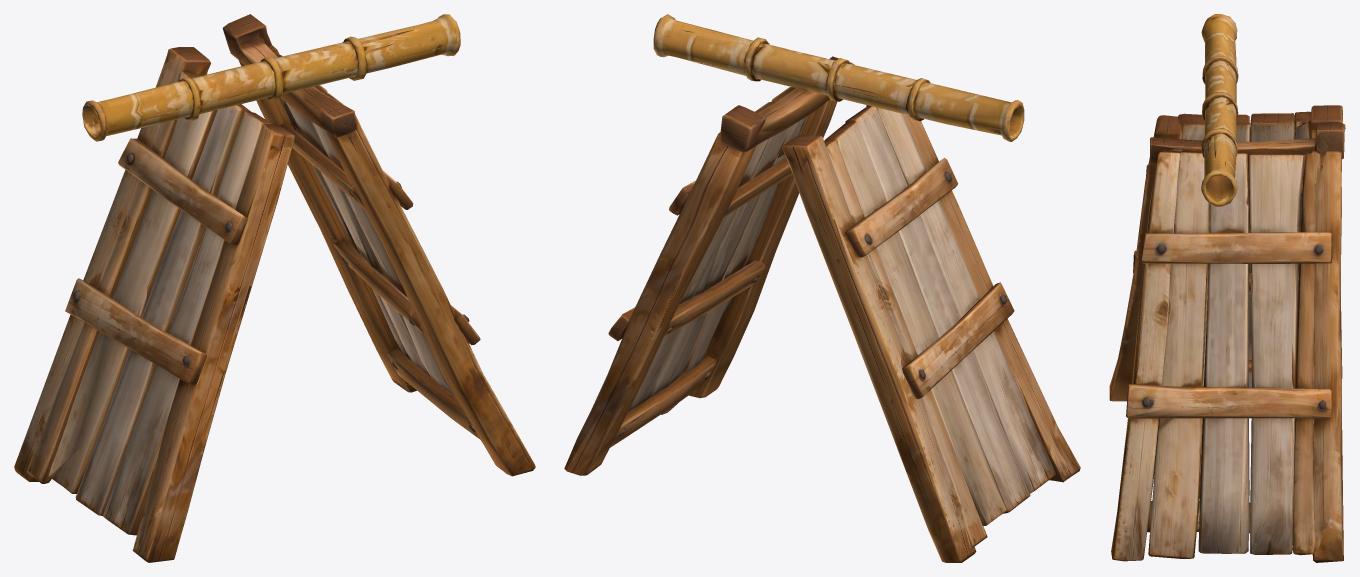
Rendered from rooster_tent.glb.
3 views of the same model, side by side, from view 1: azimuth 30°, elevation 25°; view 2: azimuth 150°, elevation 25°; view 3: azimuth 270°, elevation 25° (orthographic). The views are drawn at different scales.
Parts seen in each view (by area): view 1: Mesh0; view 2: Mesh0; view 3: Mesh0.
Boxes of the visible parts, box(x1,y1,x2,y2) form: Mesh0: box(14, 14, 535, 562); Mesh0: box(564, 14, 1080, 562); Mesh0: box(1109, 14, 1345, 562).
Bounding box in the file's own units: 1 × 1 × 0.5655.
Materials: 1 (1 with a texture image).
